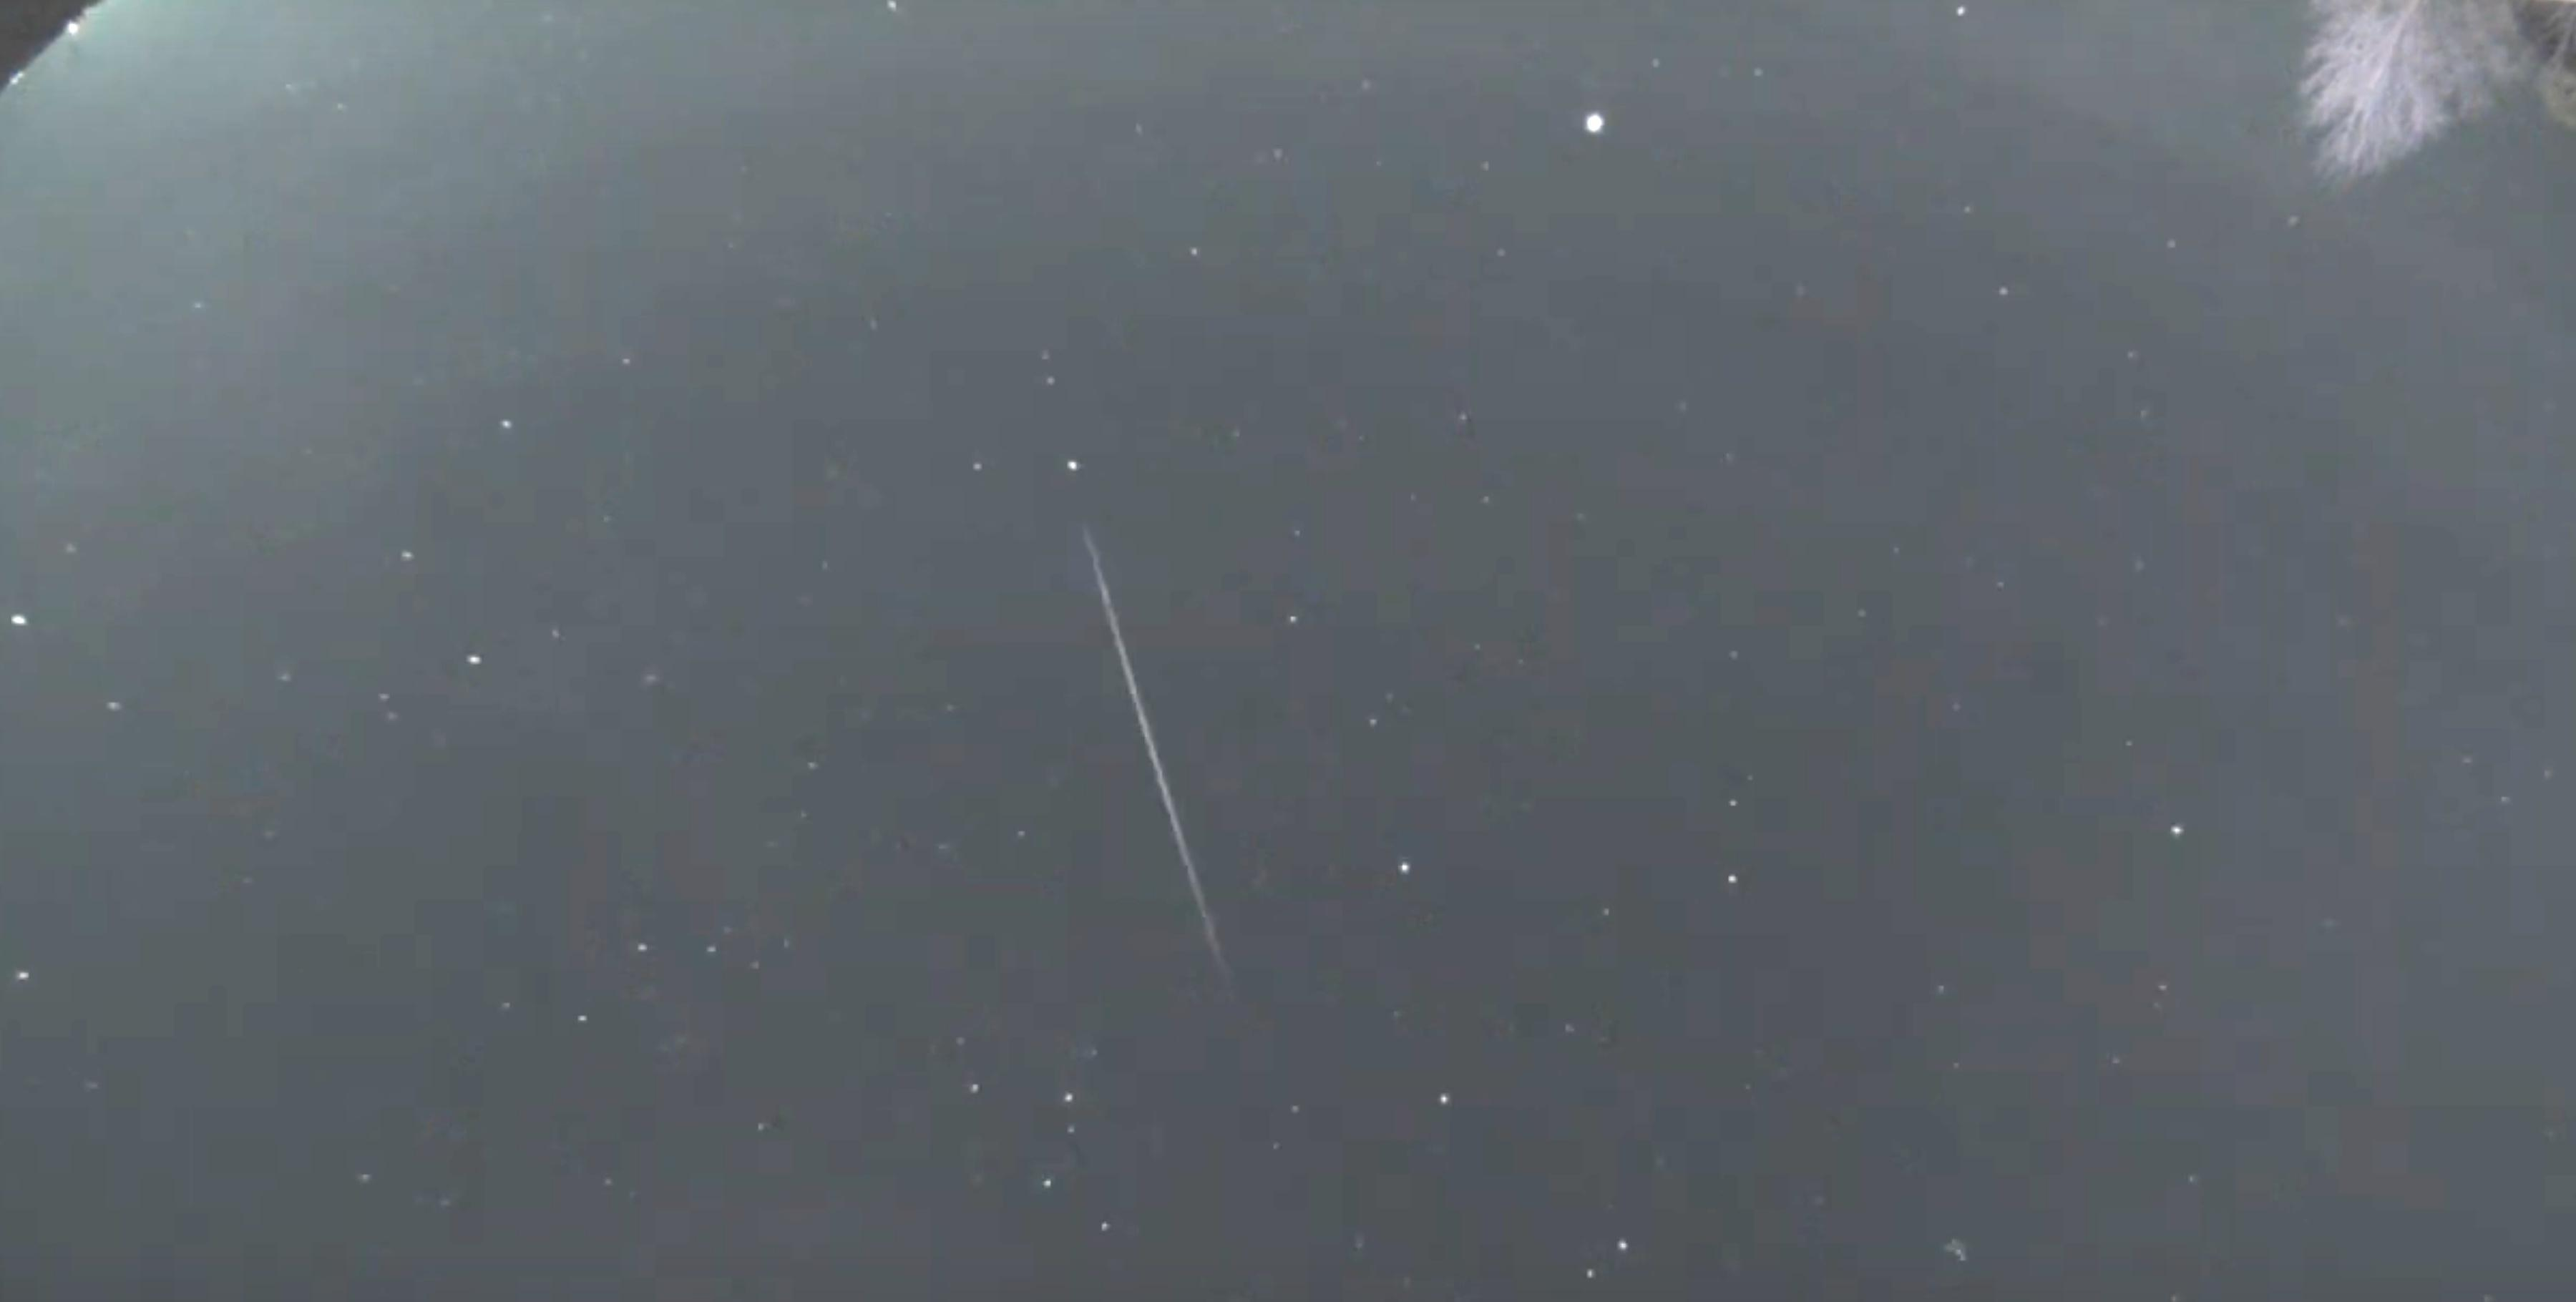meteorite: (1041, 536, 1246, 933)
